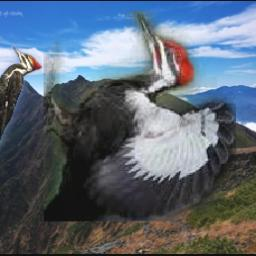Woodpecker: (44, 10, 236, 221), (0, 46, 42, 156)
